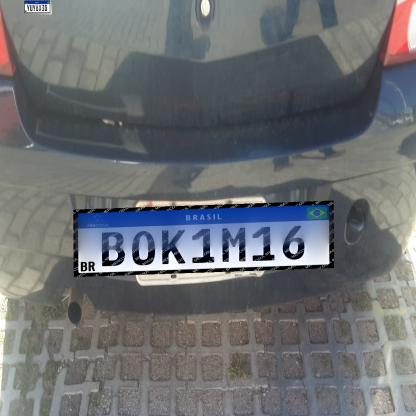PlacaM: (73, 201, 334, 277), (24, 0, 50, 13)
